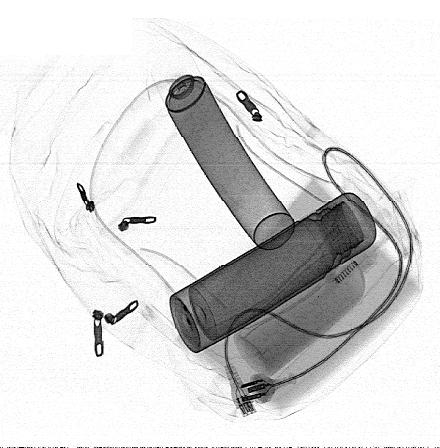Sprayer: (151, 48, 295, 250)
